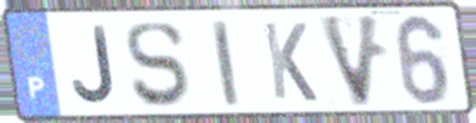6: (393, 11, 451, 108)
I: (208, 17, 244, 110)
J: (70, 24, 119, 107)
K: (260, 19, 321, 105)
S: (122, 19, 191, 110)
V: (315, 12, 386, 111)
